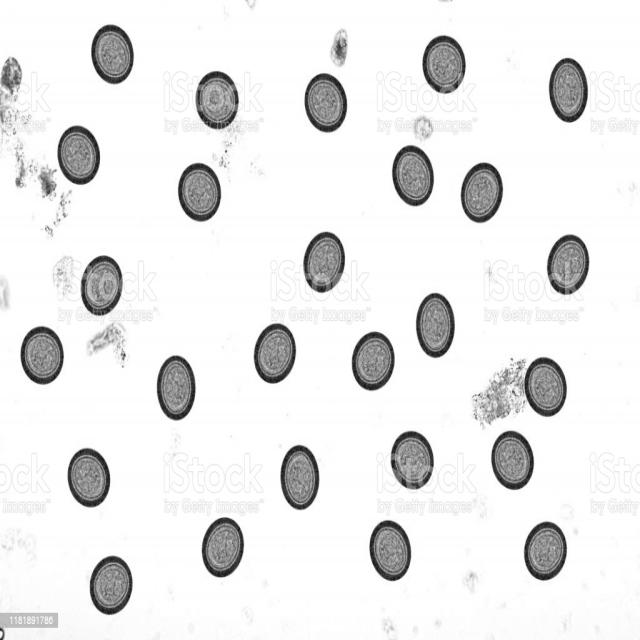Taenia Sp: (274, 434, 324, 521), (239, 318, 299, 389), (543, 47, 591, 128), (90, 6, 138, 86), (200, 512, 248, 592), (15, 318, 69, 389), (362, 510, 413, 582), (300, 223, 350, 296), (347, 325, 399, 395), (519, 515, 570, 586), (76, 248, 124, 320), (178, 151, 226, 223), (390, 423, 440, 491), (192, 64, 242, 132), (490, 428, 540, 495), (157, 350, 198, 431), (544, 230, 590, 302), (54, 125, 106, 187), (421, 31, 468, 98), (459, 154, 503, 225), (299, 73, 350, 134), (390, 140, 437, 206), (88, 550, 134, 617), (413, 290, 456, 361), (524, 352, 568, 418), (66, 446, 109, 510)
